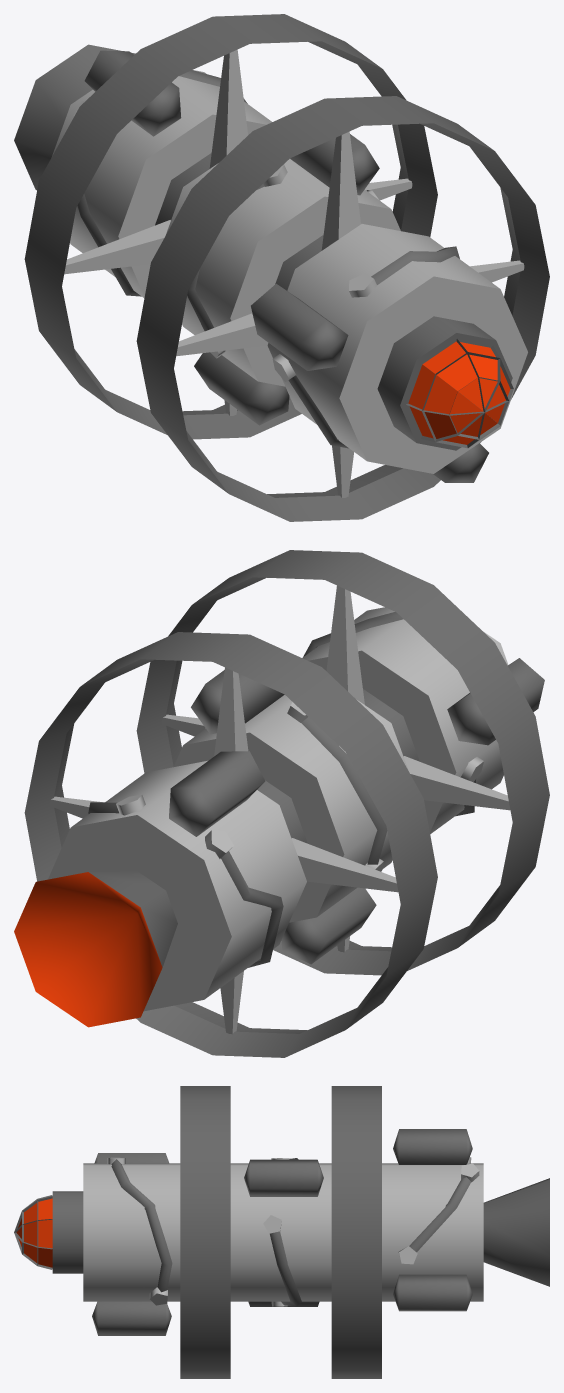
Rendered from Ship-TypeA-Cylinder.fbx.
3 views of the same model, one above another, from view 1: azimuth 30°, elevation 25°; view 2: azimuth 150°, elevation 25°; view 3: azimuth 270°, elevation 25° (orthographic). The views are drawn at different scales.
Visible parts, largest first — view 1: Ship_Depleted_01, Ship_Depleted_Centrifuge_01, Ship_Depleted_Centrifuge_02; view 2: Ship_Depleted_01, Ship_Depleted_Centrifuge_02, Ship_Depleted_Centrifuge_01; view 3: Ship_Depleted_01, Ship_Depleted_Centrifuge_01, Ship_Depleted_Centrifuge_02.
Part boxes in pixels (<box>): Ship_Depleted_01: <box>14,44,527,482</box>; Ship_Depleted_Centrifuge_01: <box>136,96,549,521</box>; Ship_Depleted_Centrifuge_02: <box>24,14,437,439</box>; Ship_Depleted_01: <box>14,607,544,1027</box>; Ship_Depleted_Centrifuge_02: <box>24,632,437,1057</box>; Ship_Depleted_Centrifuge_01: <box>136,550,549,975</box>; Ship_Depleted_01: <box>14,1129,549,1335</box>; Ship_Depleted_Centrifuge_01: <box>180,1086,230,1378</box>; Ship_Depleted_Centrifuge_02: <box>331,1086,381,1378</box>.
Size of the model in its own units: 0.5501 by 0.5501 by 1.01.
